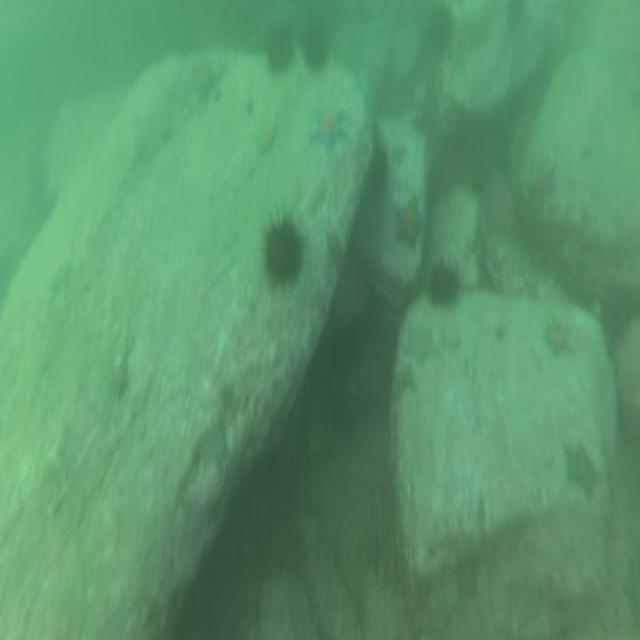echinus: (260, 215, 304, 286), (300, 13, 335, 79), (599, 292, 632, 354), (264, 18, 297, 78), (426, 253, 463, 305), (426, 5, 452, 60), (502, 0, 529, 32)
starfish: (561, 434, 603, 502), (391, 192, 429, 254), (399, 314, 438, 370), (309, 103, 351, 155), (185, 57, 219, 111), (541, 312, 575, 364), (388, 354, 419, 411), (529, 158, 560, 212), (620, 553, 640, 631), (247, 120, 278, 163), (48, 256, 76, 302), (322, 226, 346, 270), (388, 138, 411, 168)
